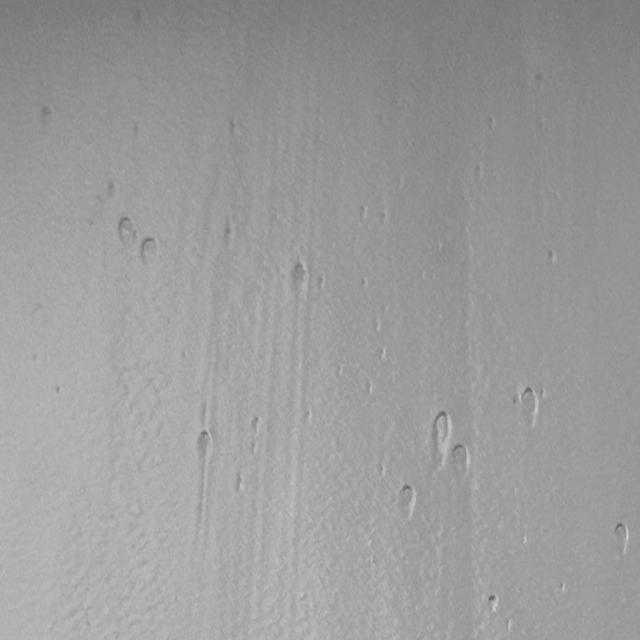pin holes: (423, 410, 453, 468), (516, 386, 544, 428), (395, 482, 418, 519), (116, 212, 140, 247), (610, 521, 633, 556), (138, 237, 162, 267), (289, 260, 310, 290), (452, 446, 472, 477), (36, 104, 56, 130), (195, 432, 212, 461), (220, 223, 238, 249), (532, 70, 551, 94), (543, 248, 561, 270), (485, 591, 502, 614), (484, 113, 501, 134), (470, 163, 486, 185), (226, 116, 242, 138), (107, 181, 122, 203), (317, 273, 328, 297), (235, 473, 245, 499), (358, 203, 370, 221), (252, 414, 264, 431), (360, 275, 370, 290), (373, 316, 381, 334), (557, 582, 567, 596), (378, 460, 385, 480), (52, 384, 63, 396), (365, 378, 372, 396), (336, 362, 342, 382), (377, 347, 384, 363)
